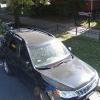Car: (5, 15, 99, 100)
